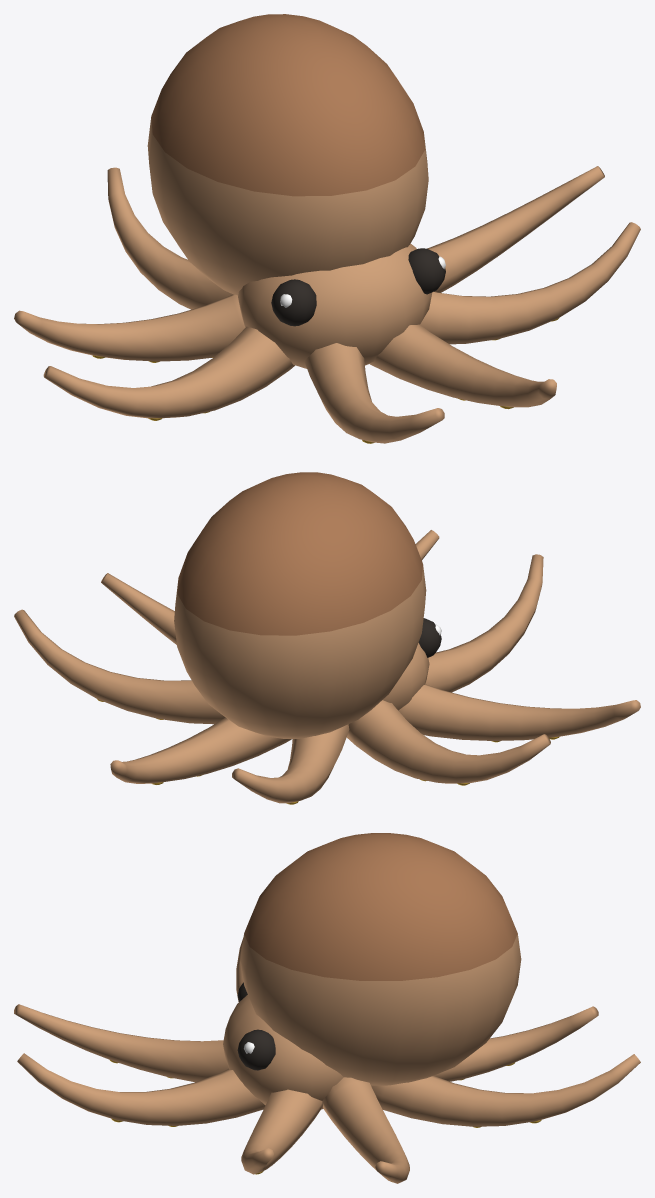
Rendered from sea-webfoot-octopus.glb.
3 renders of one model, top to bottom at view 1: azimuth 30°, elevation 25°; view 2: azimuth 150°, elevation 25°; view 3: azimuth 270°, elevation 25°, orthographic. The views are drawn at different scales.
Visible parts, largest first — view 1: octopus; view 2: octopus; view 3: octopus.
Boxes of the visible parts, box(x1,y1,x2,y2) form: octopus: box(14, 14, 640, 443); octopus: box(14, 472, 640, 804); octopus: box(14, 833, 640, 1183).
Size of the model in its own units: 0.281 by 0.1275 by 0.2787.
